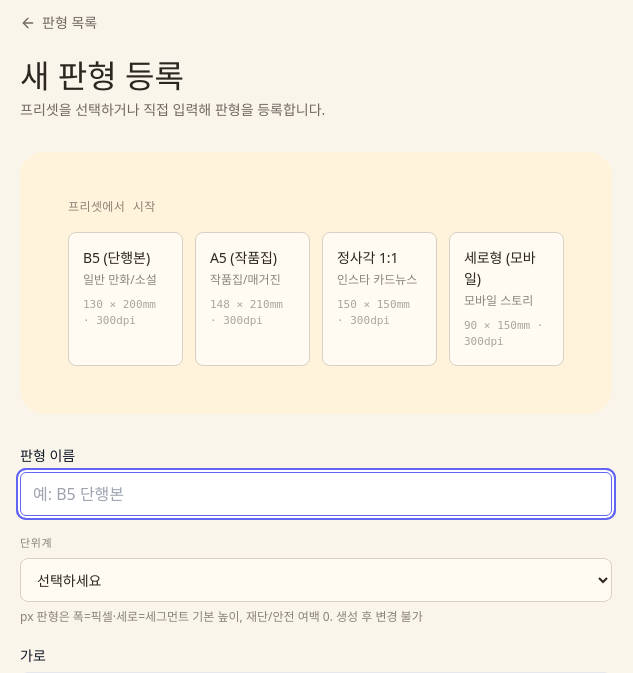
NewFormatPage (프리셋 + 폼) › 프리셋 카드 클릭 후 폼 필드가 채워진다
The width and height of the screenshot is (633, 673).
Click the button "B5 (단행본) 일반 만화/소설 130 × 200mm · 300dpi": (126, 299) [68,232,183,366]
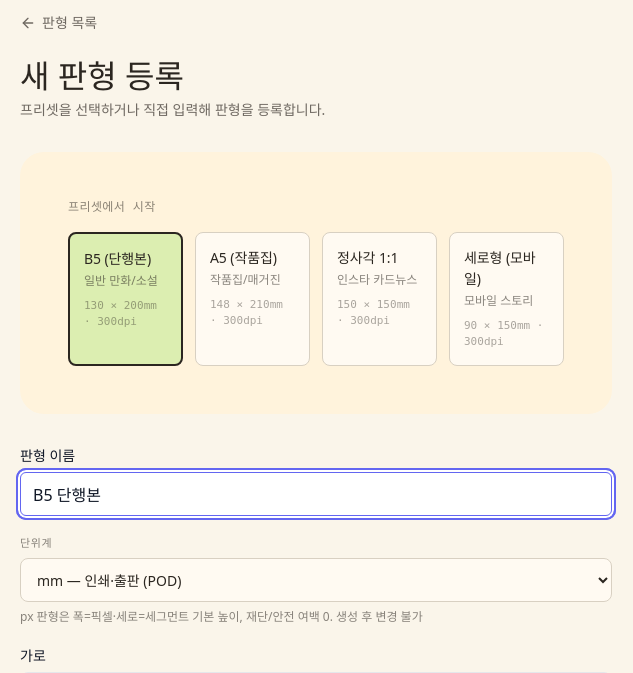
Now the field with placeholder "예: B5 단행본" holds "B5 단행본", box [20,472,612,516]
